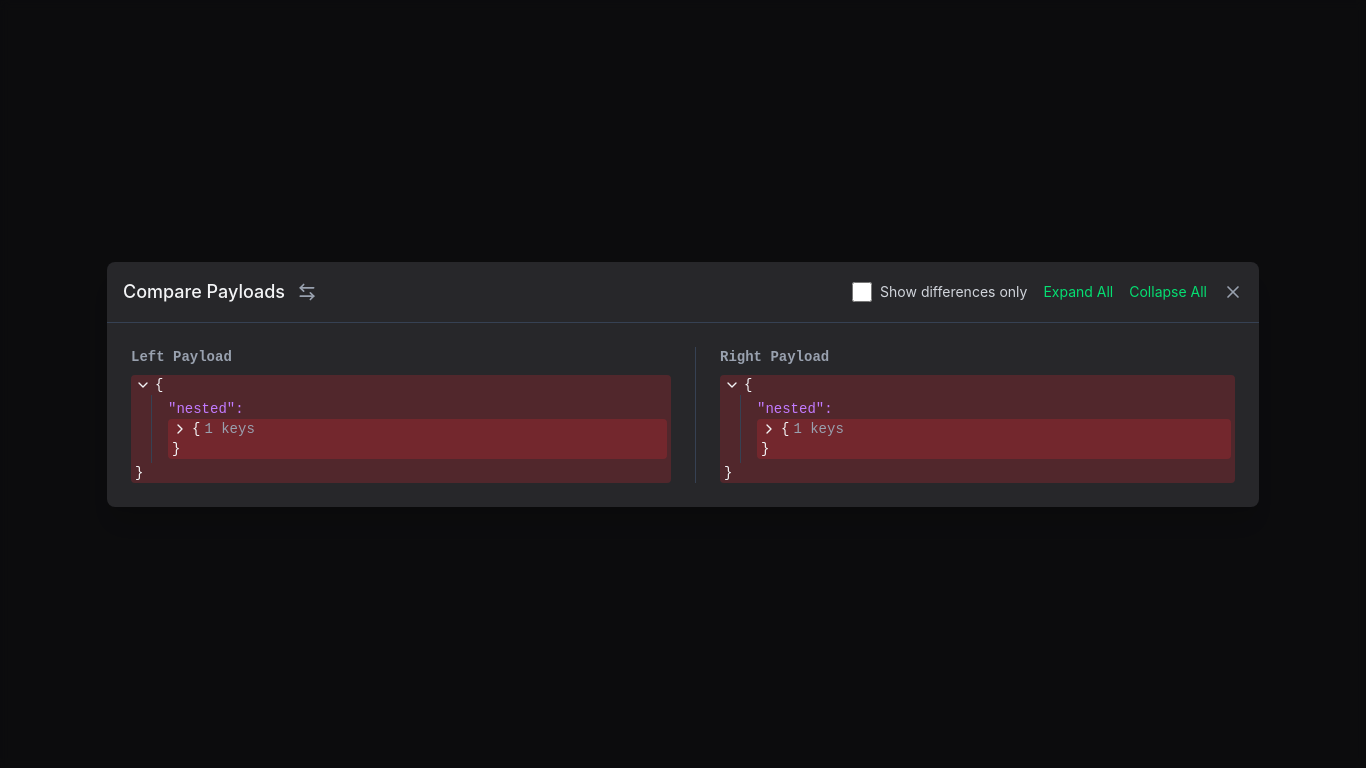
it: PayloadCompareModal › expands and collapses all nested paths across both payloads
Click the button "Expand All" at coordinates (1078, 292), box [1043,282,1113,302]
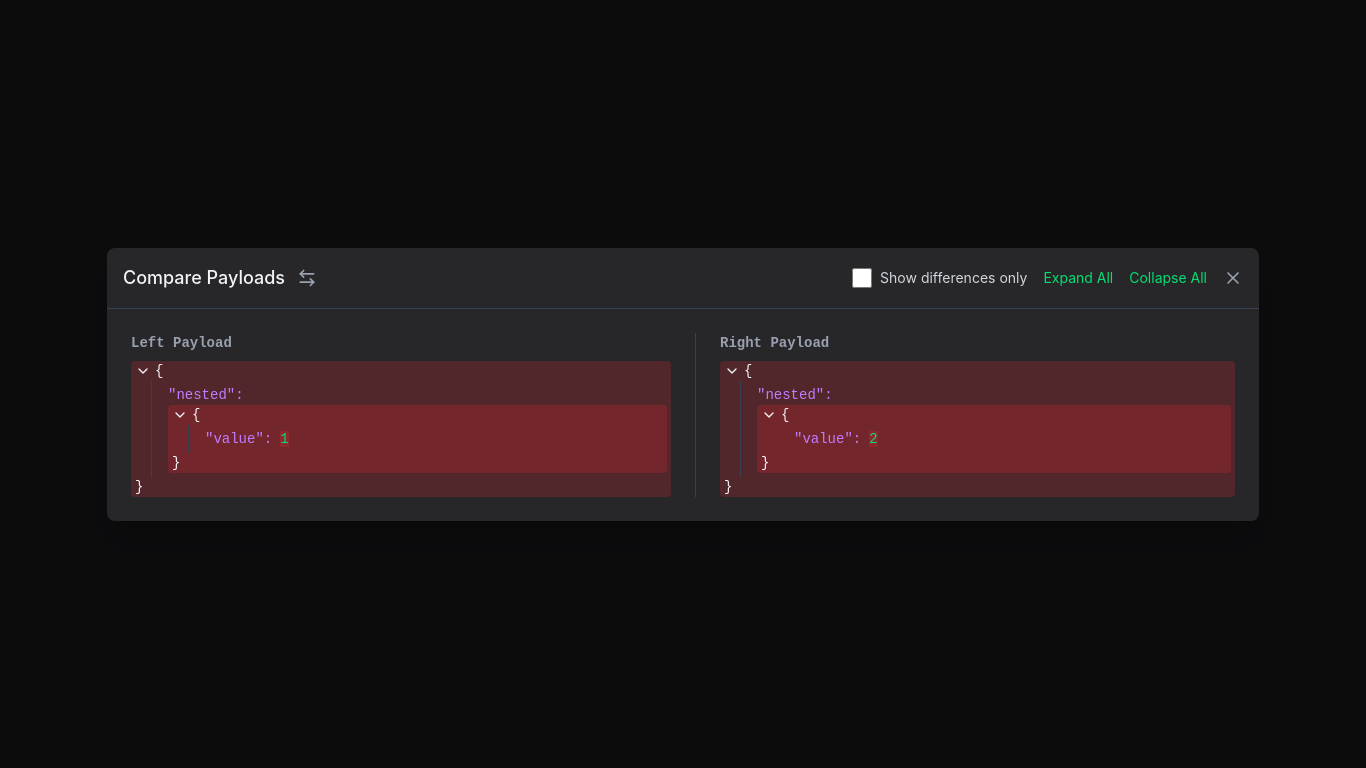
Expected: the text "\"value\":" is shown 2 times, [205,430,272,446]; [794,430,861,446]
Click the button "Collapse All" at coordinates (1168, 278), box [1129,268,1207,288]
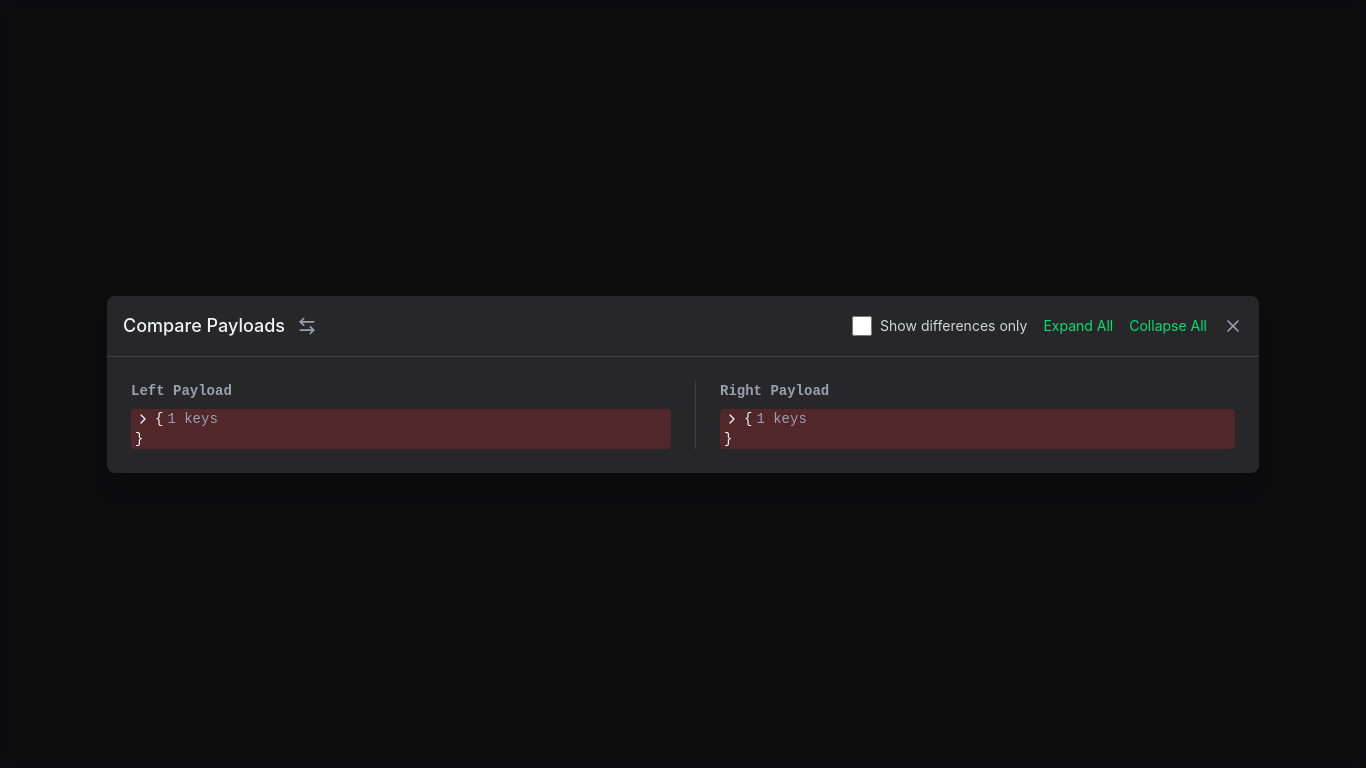
Expected: the text "\"value\":" is gone
